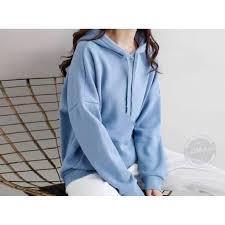sweater: (59, 38, 162, 177)
